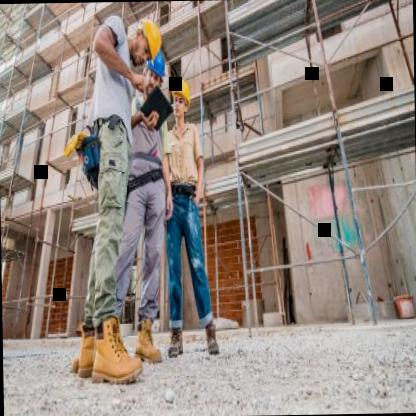helmet: (132, 14, 160, 67), (141, 46, 166, 96), (169, 74, 192, 124)
